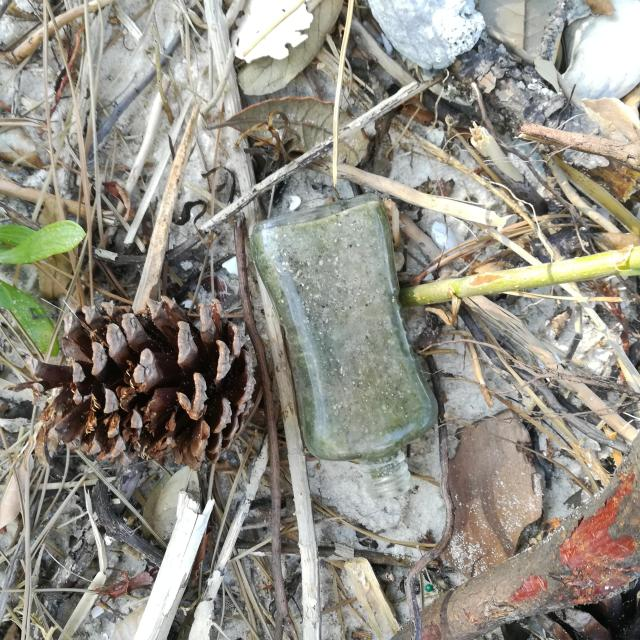litter: (245, 188, 440, 499)
